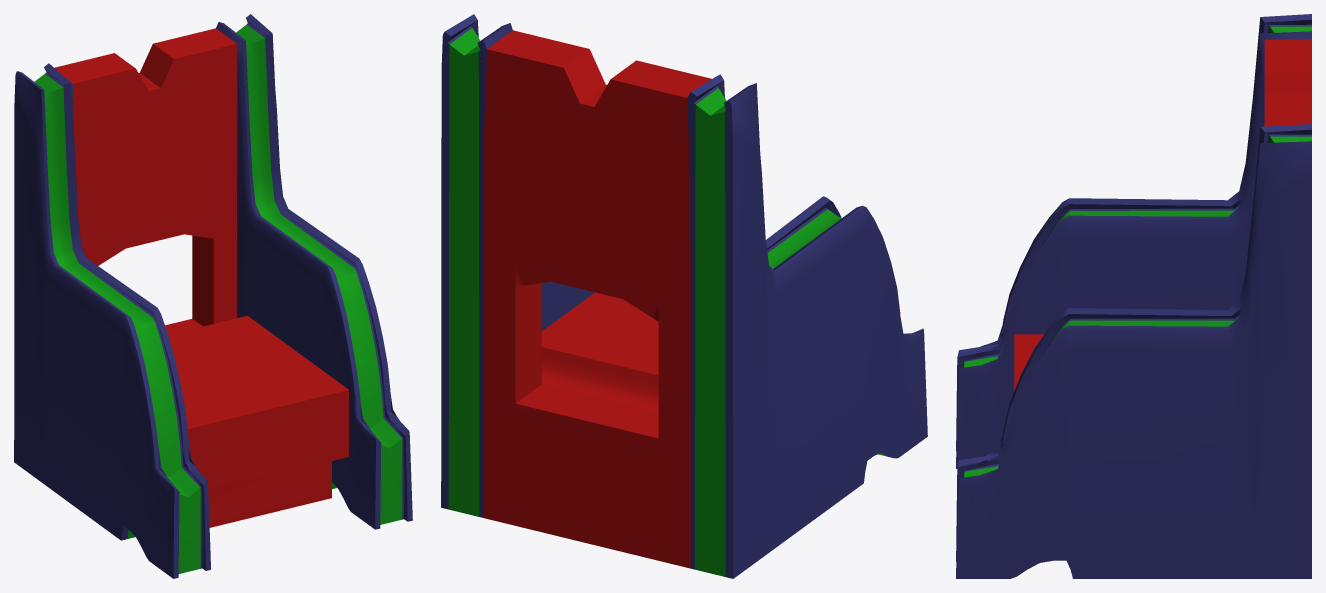
File: Throne.FBX
3 views of the same model, side by side, from view 1: azimuth 30°, elevation 25°; view 2: azimuth 150°, elevation 25°; view 3: azimuth 270°, elevation 25° (orthographic). The views are drawn at different scales.
Visible parts, largest first — view 1: Throne_LP, Seat_LP, Rail_LP; view 2: Seat_LP, Throne_LP, Rail_LP; view 3: Throne_LP, Seat_LP, Rail_LP.
Part boxes in pixels (box(x1,y1,x2,y2)): Throne_LP: box(14, 14, 412, 578); Seat_LP: box(54, 28, 348, 527); Rail_LP: box(34, 24, 402, 573); Seat_LP: box(484, 30, 711, 568); Throne_LP: box(441, 14, 927, 578); Rail_LP: box(448, 28, 886, 576); Throne_LP: box(956, 14, 1311, 578); Seat_LP: box(1014, 39, 1311, 390); Rail_LP: box(964, 26, 1311, 477).
Bounding box in the file's own units: 3657 × 5703 × 4218.
